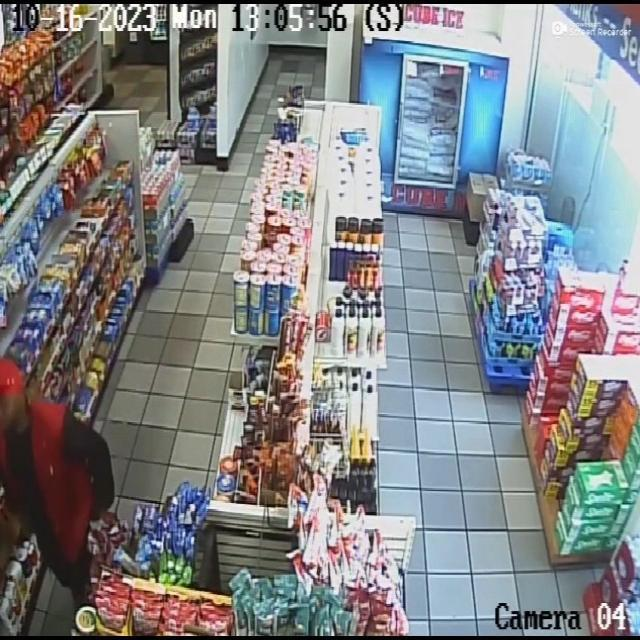Normal: (0, 358, 116, 625)
